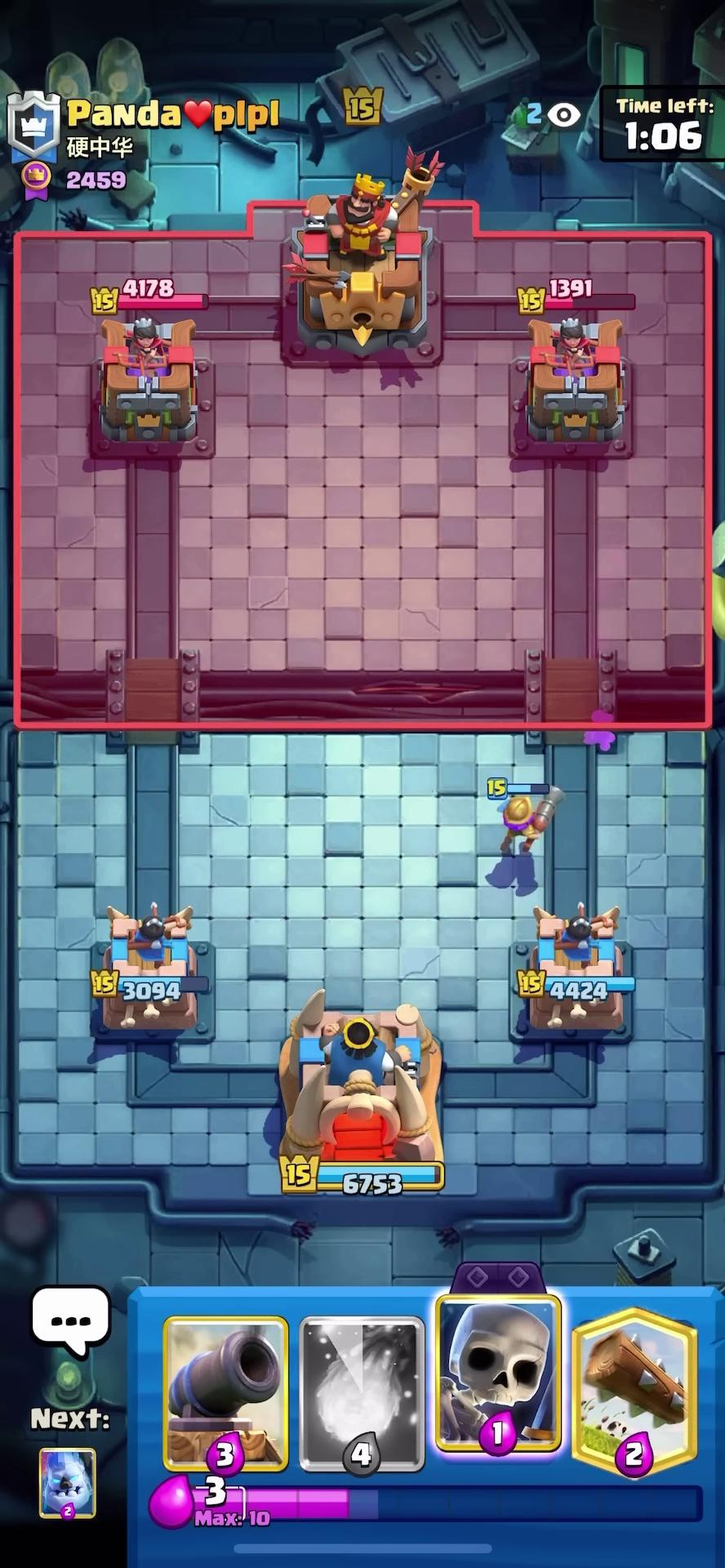musketeer: (482, 778, 582, 851)
